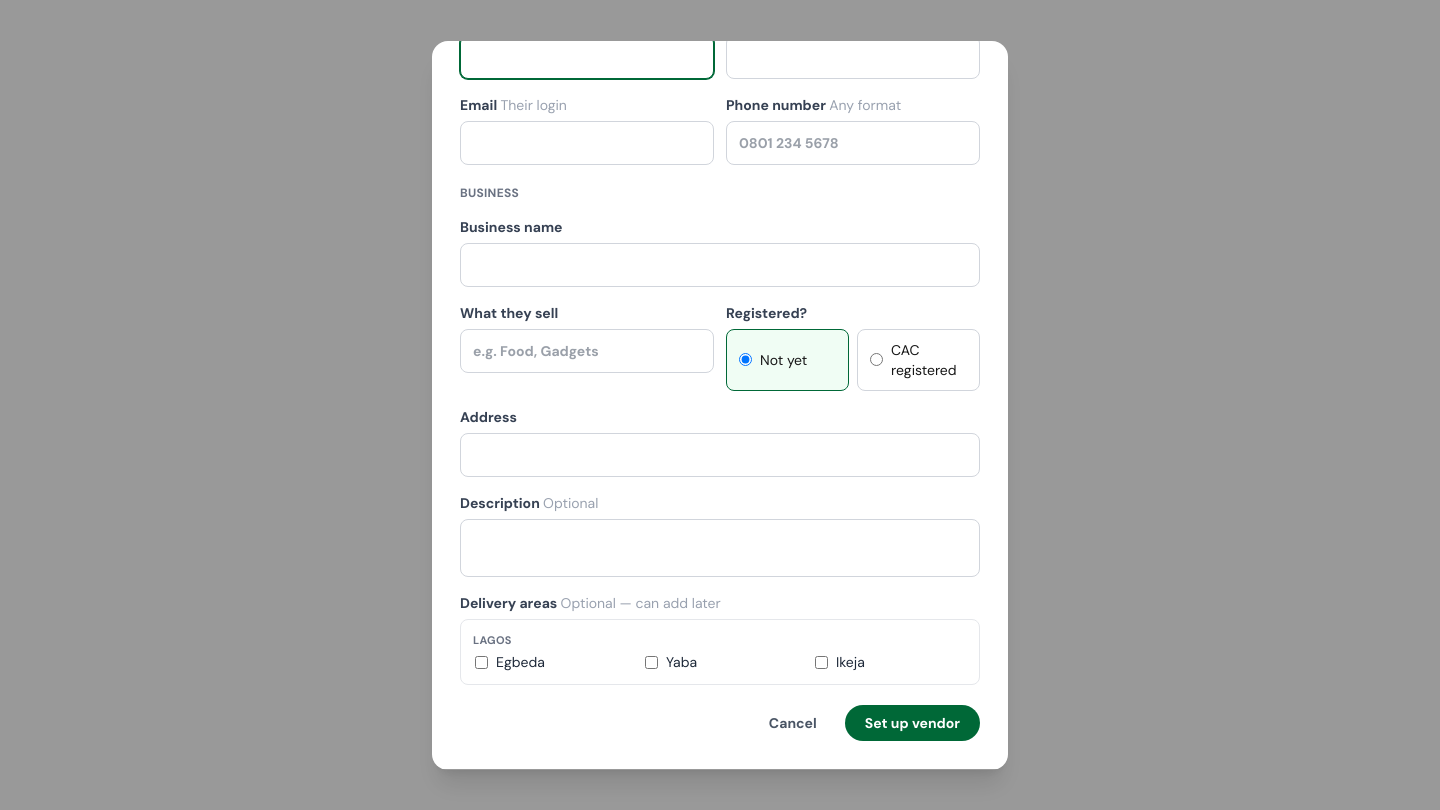
Test: Set up a vendor › asks for what is missing before sending
(page scrolled)
Click the button "Set up vendor" at (912,723), box [845, 705, 980, 741]
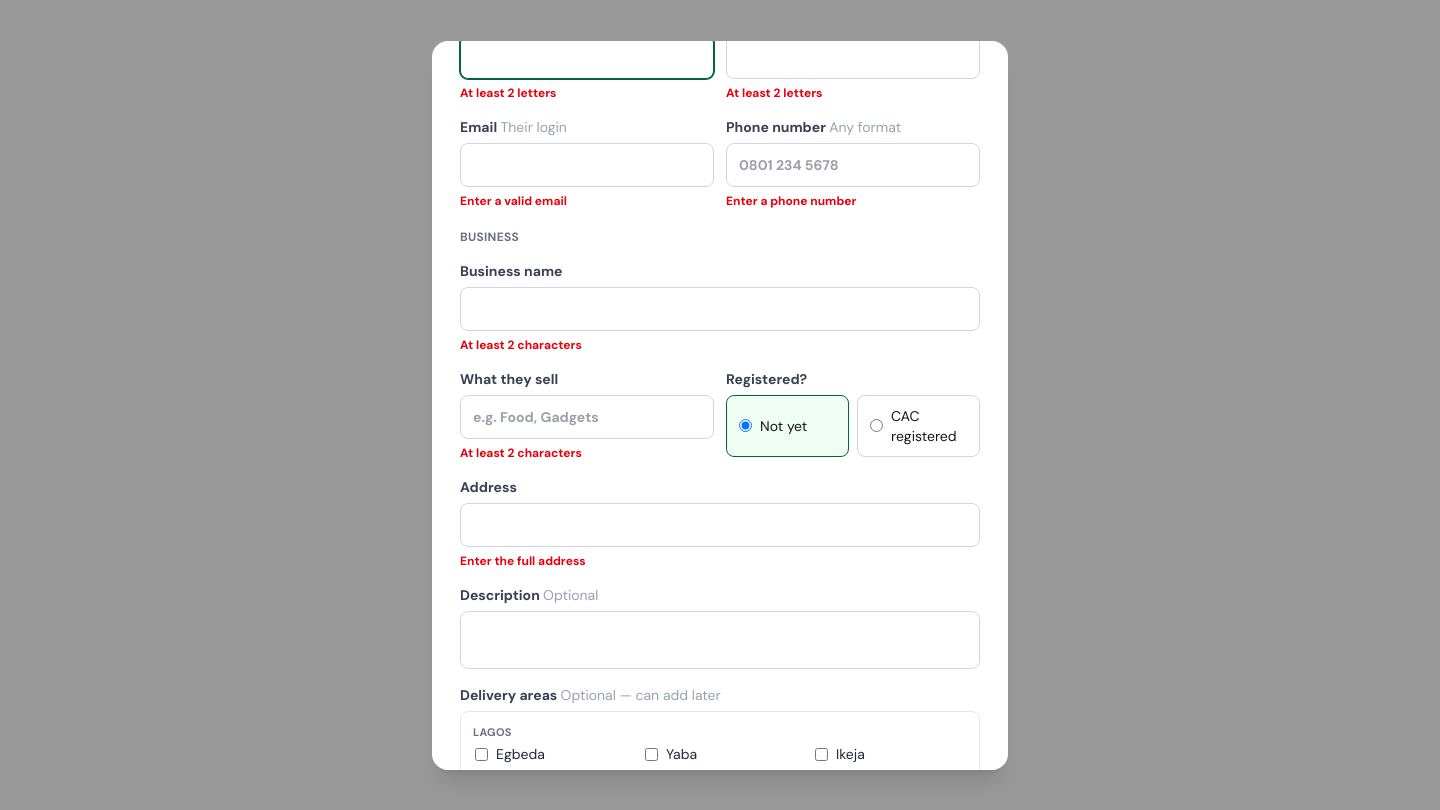
Check: the text "Enter a valid email" is shown, box [460, 192, 567, 208]
Check: the text "Enter the full address" is shown, box [460, 552, 586, 568]
